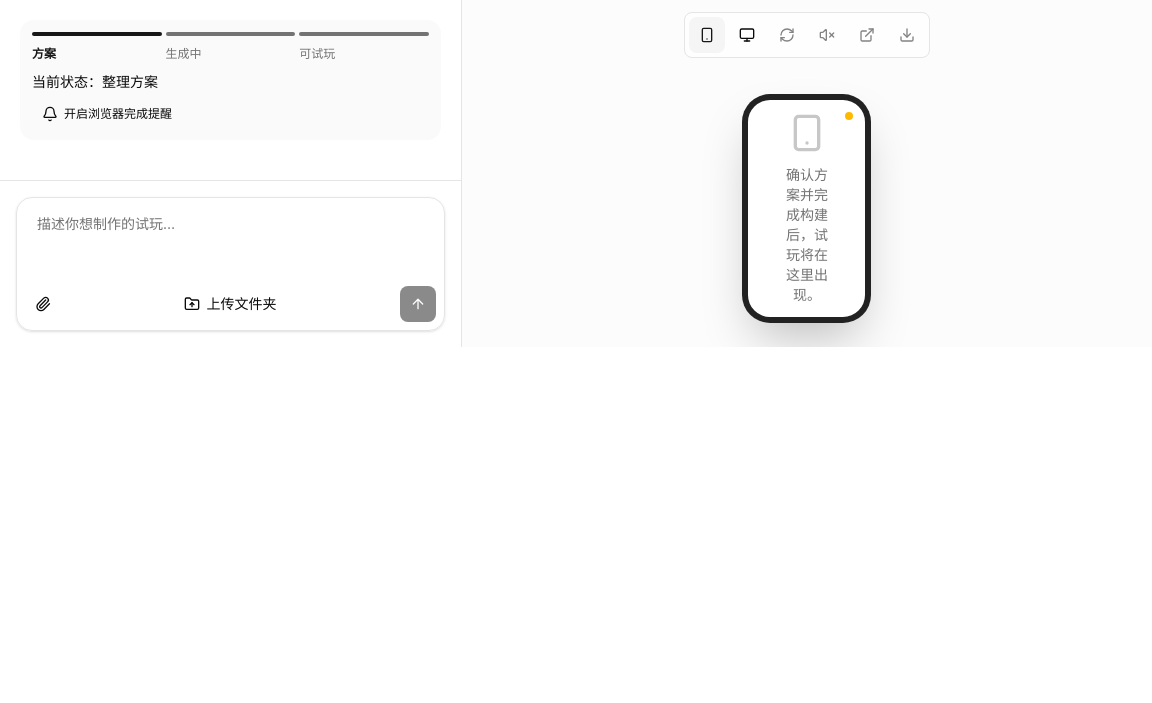
Test case: PlayableWorkspace › refreshes video analysis immediately when the video tool completes
The width and height of the screenshot is (1152, 703).
Step 1. Type "分析视频" into the text box named "试玩需求" → (230,246), box top-left (25, 206), bottom-right (436, 286)
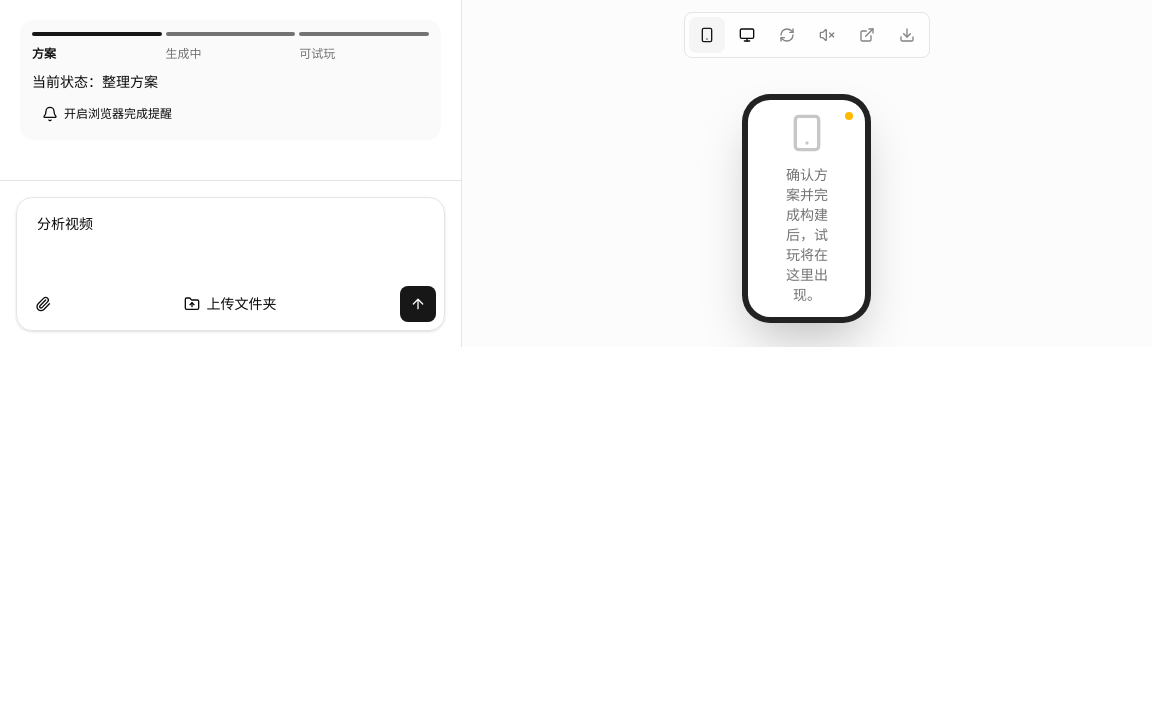
Step 2. Click the button named "发送需求" → (418,304), box top-left (400, 286), bottom-right (436, 322)
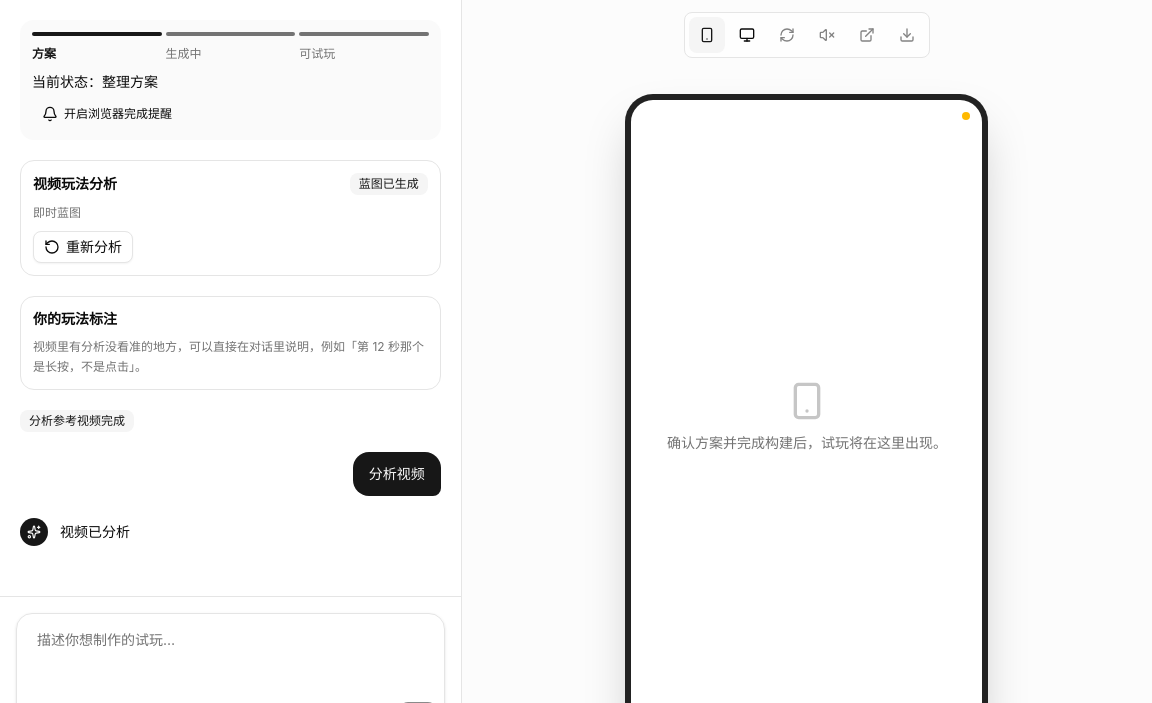
Now the element named "参考视频分析" shows "即时蓝图", box top-left (33, 205), bottom-right (81, 220)
